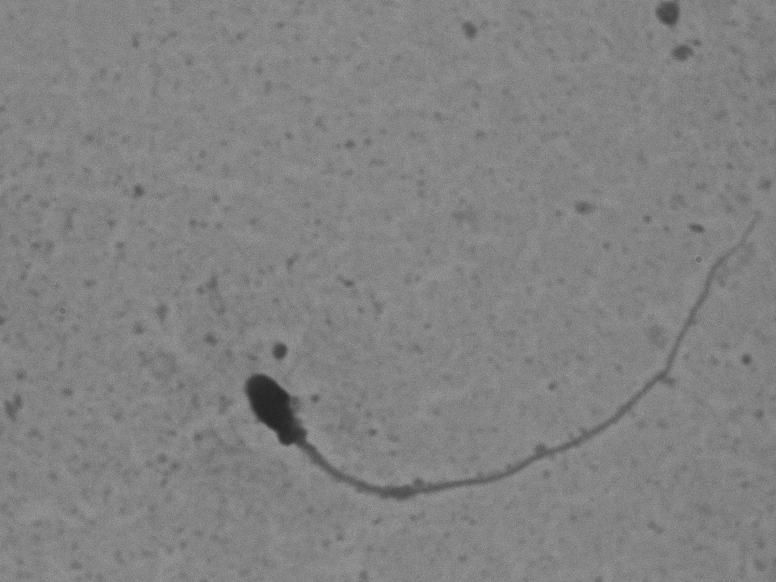Abnormal: (185, 192, 766, 526)
